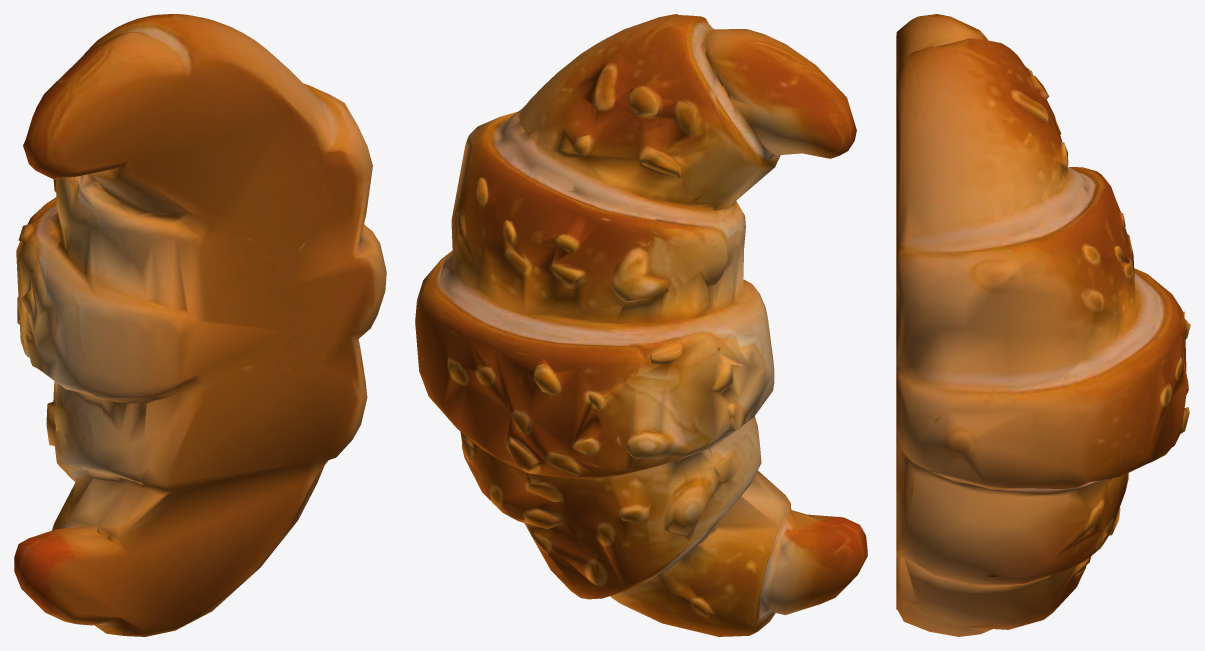
3 renders of one model, left to right at view 1: azimuth 30°, elevation 25°; view 2: azimuth 150°, elevation 25°; view 3: azimuth 270°, elevation 25°, orthographic.
Parts seen in each view (by area): view 1: material; view 2: material; view 3: material.
Boxes of the visible parts, x1,y1,x2,y2 form: material: (14,14,386,636); material: (415,14,867,636); material: (896,14,1190,636).
Bounding box in the file's own units: 0.6691 × 1 × 0.4506.
1 material, 1 textured.
